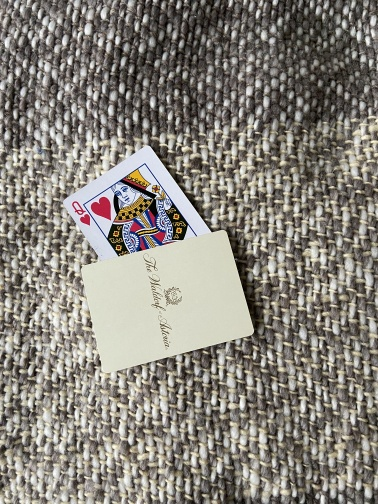queen: (61, 144, 227, 317)
